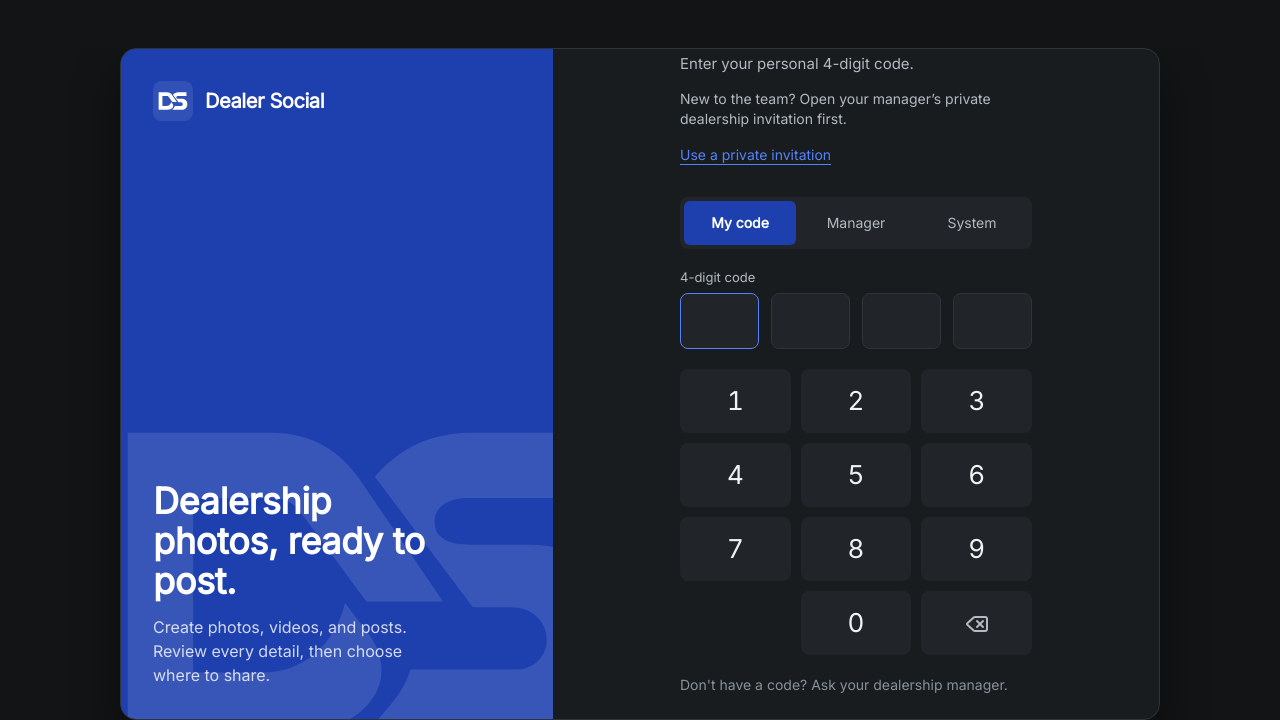
risk-triggered sign-in UX › labels infrastructure failures as unavailable, not as a bad code
(page scrolled)
Click the button "1".
click(735, 401)  # box top-left (680, 369), bottom-right (791, 433)
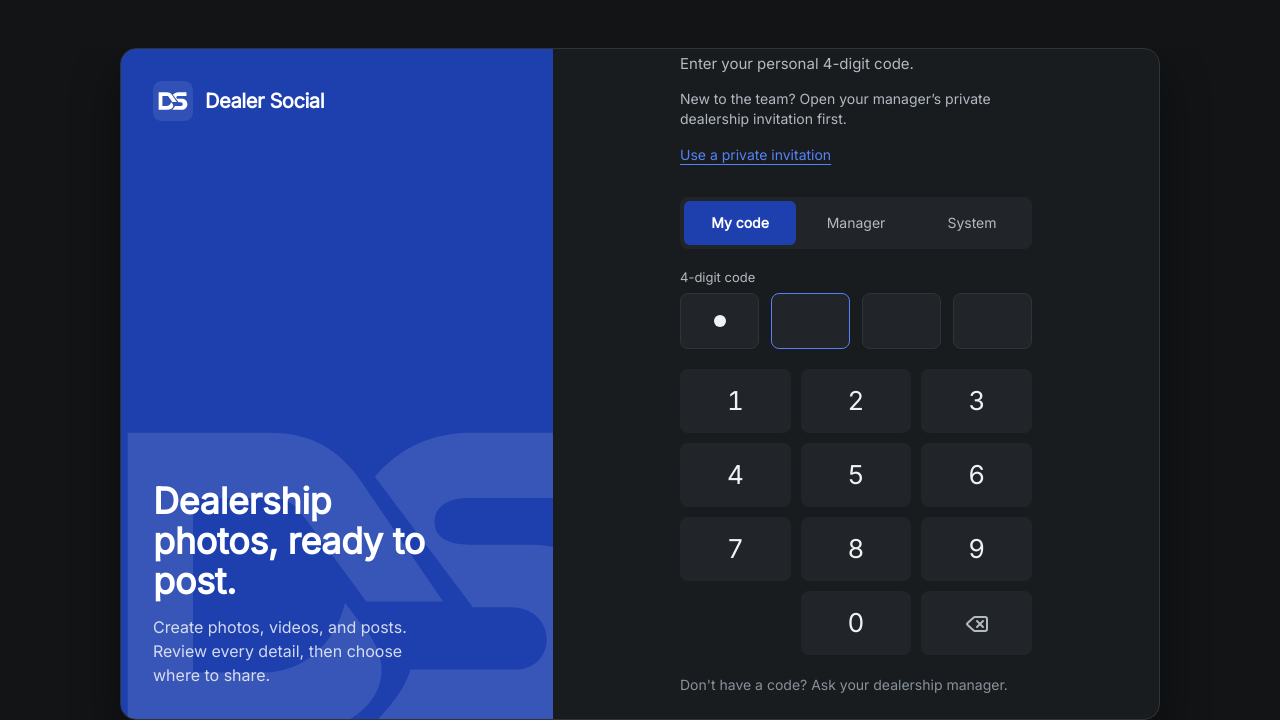
Click the button "2".
click(856, 401)  # box top-left (801, 369), bottom-right (911, 433)
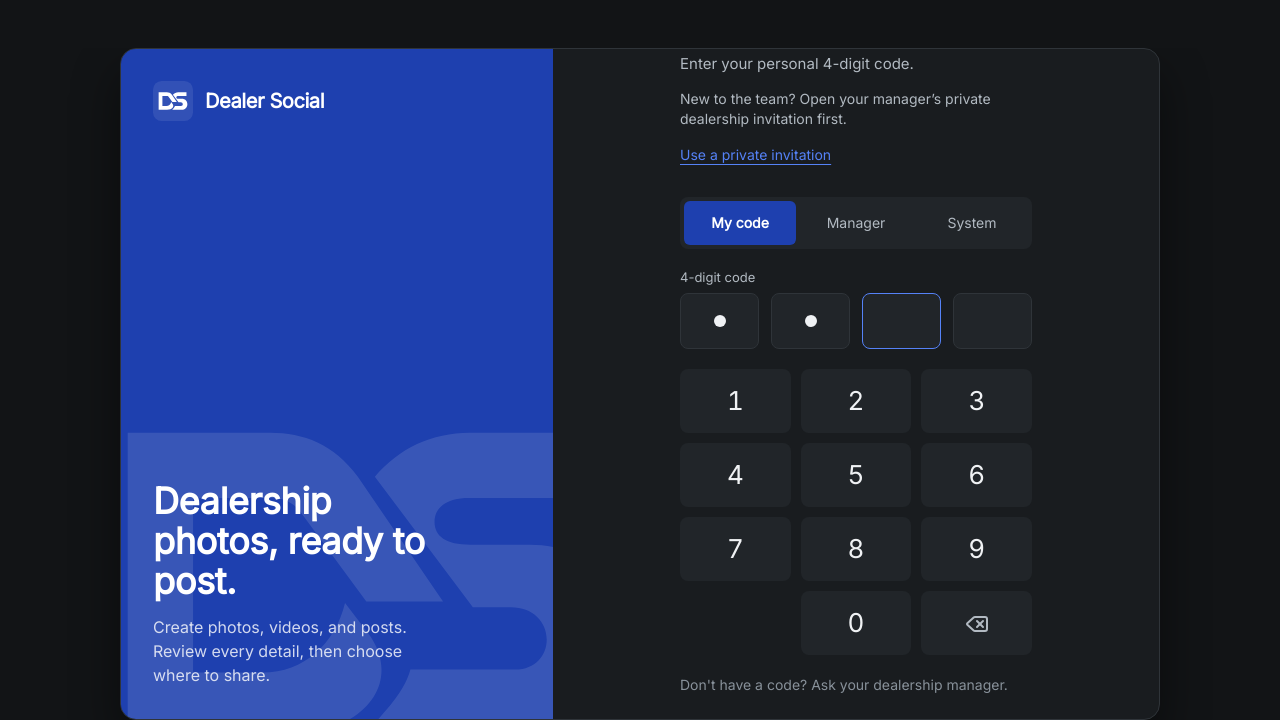
Click the button "3".
click(977, 401)  # box top-left (921, 369), bottom-right (1032, 433)
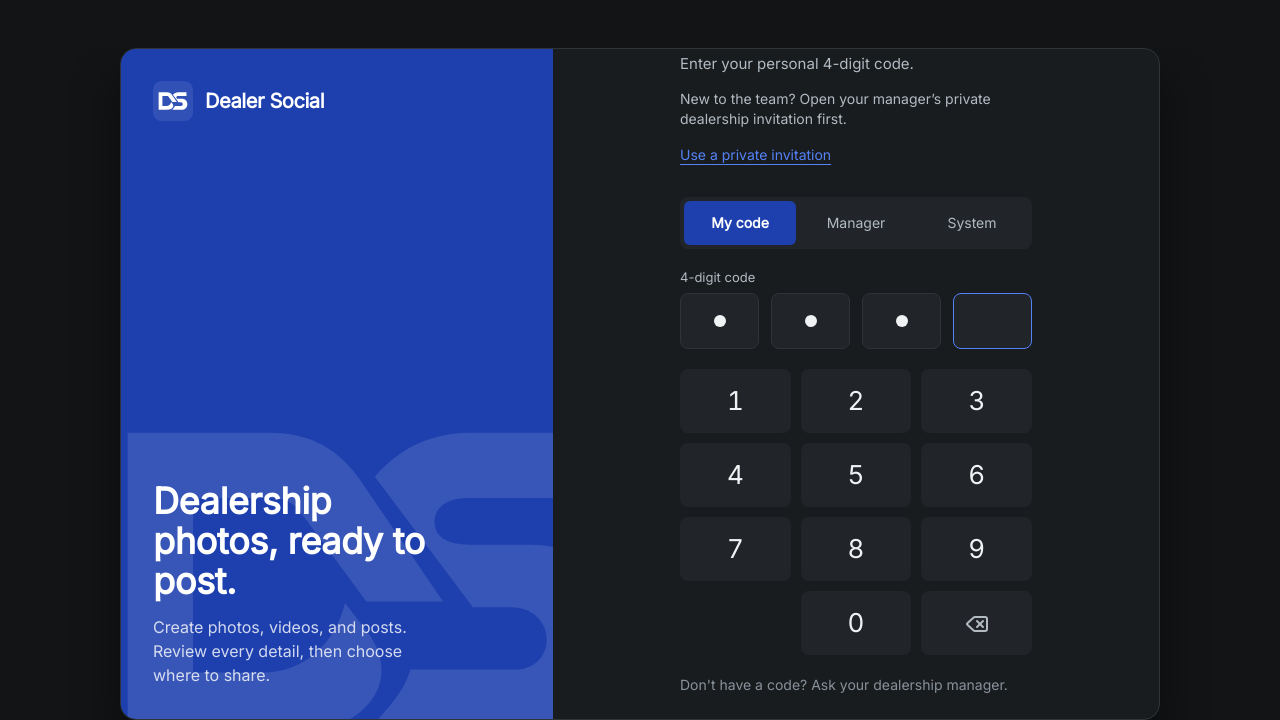
Click the button "4".
click(735, 475)  # box top-left (680, 443), bottom-right (791, 507)
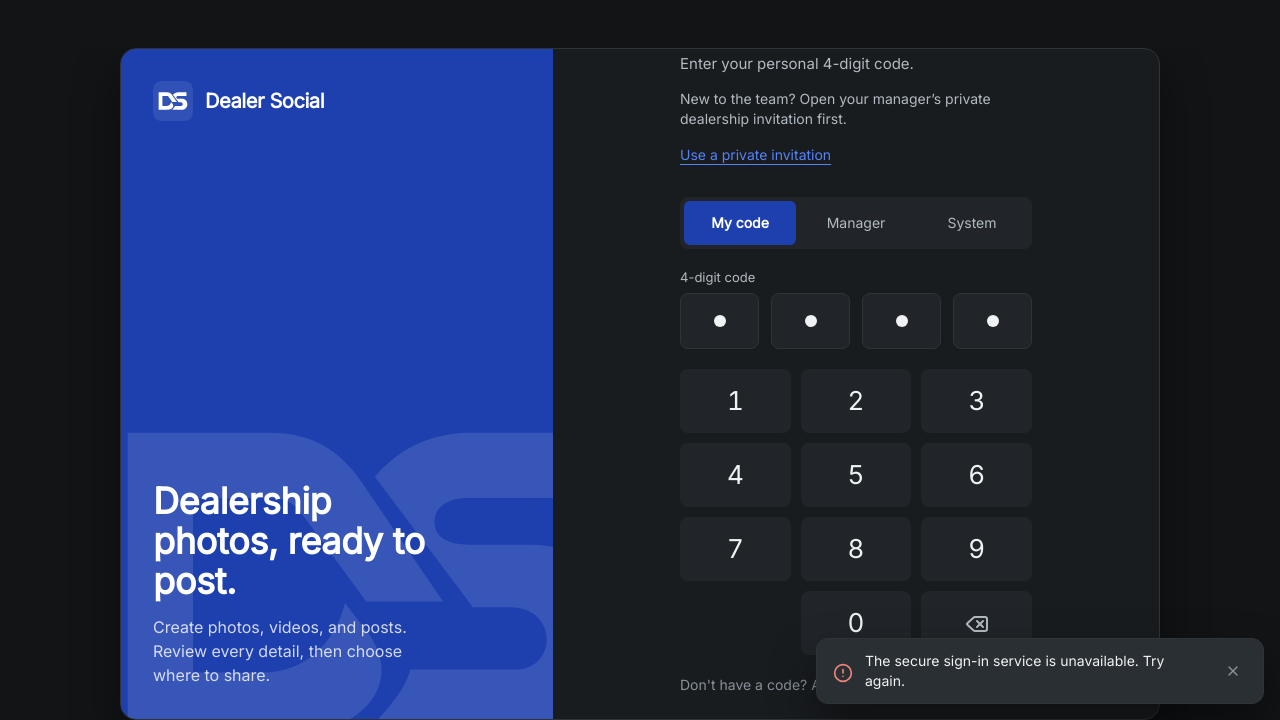
Check: the text "The secure sign-in service is unavailable. Try again." is shown, box top-left (865, 651), bottom-right (1199, 691)
